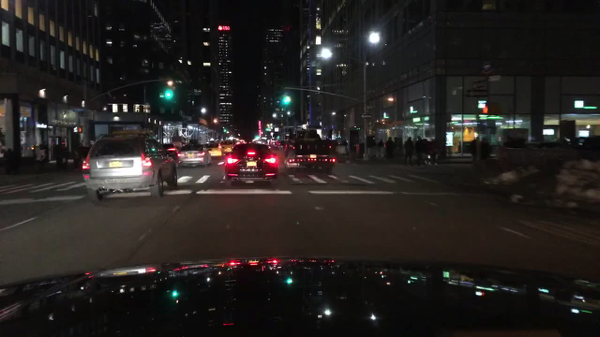car: (81, 132, 180, 203), (224, 143, 279, 186), (282, 131, 337, 172), (177, 145, 213, 167), (206, 143, 227, 160), (220, 140, 236, 156), (163, 144, 178, 156)
person: (415, 135, 426, 167), (403, 137, 415, 165), (12, 147, 22, 173), (469, 135, 479, 159), (385, 136, 394, 162), (3, 147, 11, 175), (377, 140, 386, 160), (485, 139, 492, 159), (479, 137, 485, 159), (60, 142, 66, 164), (55, 142, 60, 165), (337, 138, 343, 148), (342, 136, 347, 147)
traffic light: (164, 89, 173, 100), (283, 96, 292, 105), (222, 126, 229, 133), (254, 133, 260, 139)
traffic sign: (359, 113, 372, 120)
